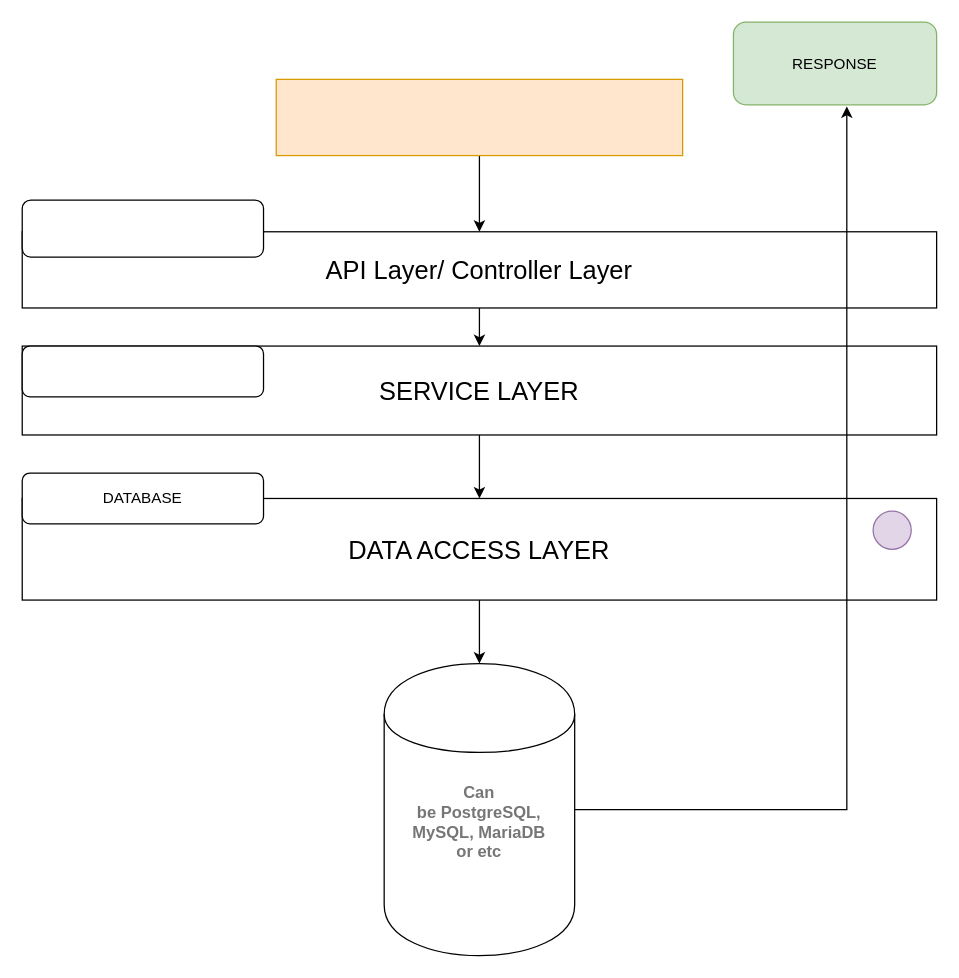
This 959x978 diagram has some shape labels left out. The shapes that lost their labels are listed below. From the top down, each one's centre as x and y in pixels, then its label:
At (x=479, y=117): "REQUEST".
At (x=142, y=228): "HTTP, GET, POST, DELETE, PUT".
At (x=142, y=371): "BUSINESS LOGIC".
